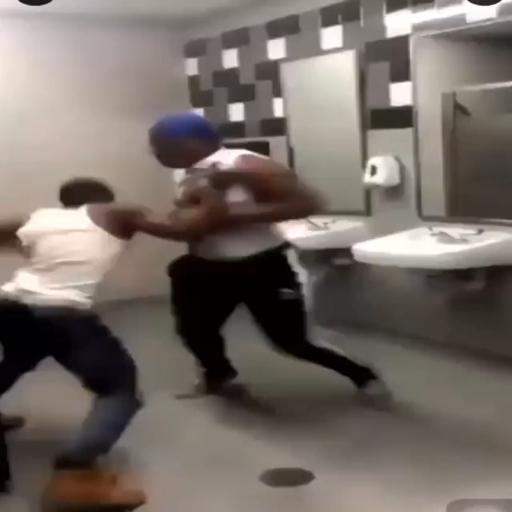violencia: (3, 108, 403, 465)
